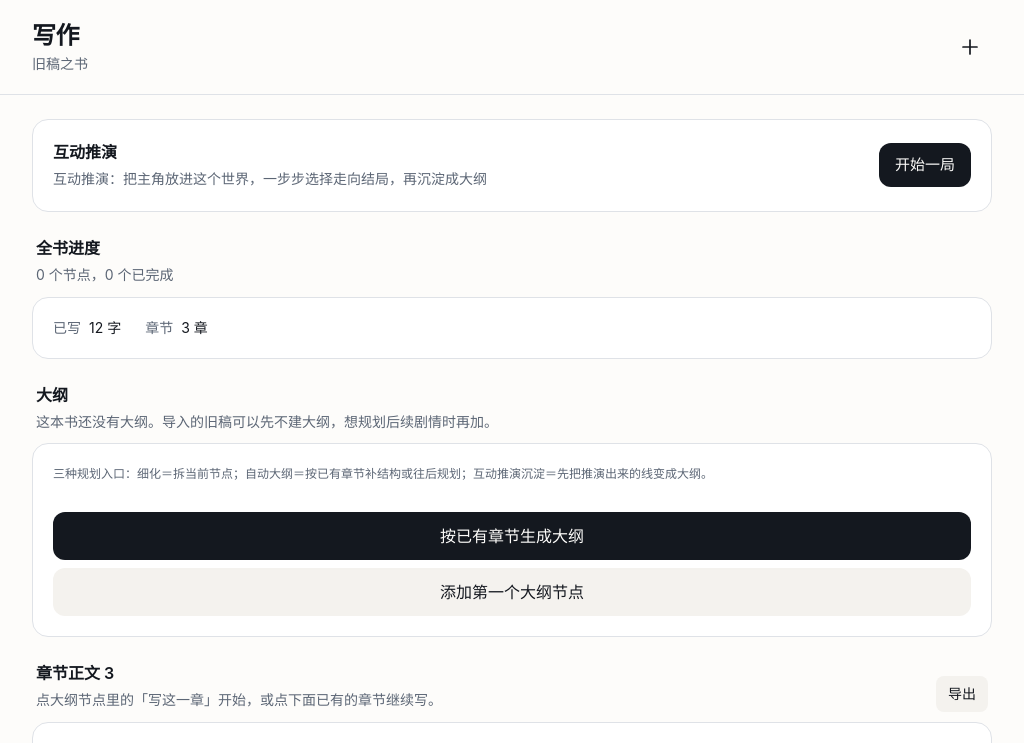
Test: M3-S2 · 预览面板 › 预览数量/标题/摘要（>60 字截断、无摘要提示）
Click the button "按已有章节生成大纲" at [512, 536], box [53,512,971,560]
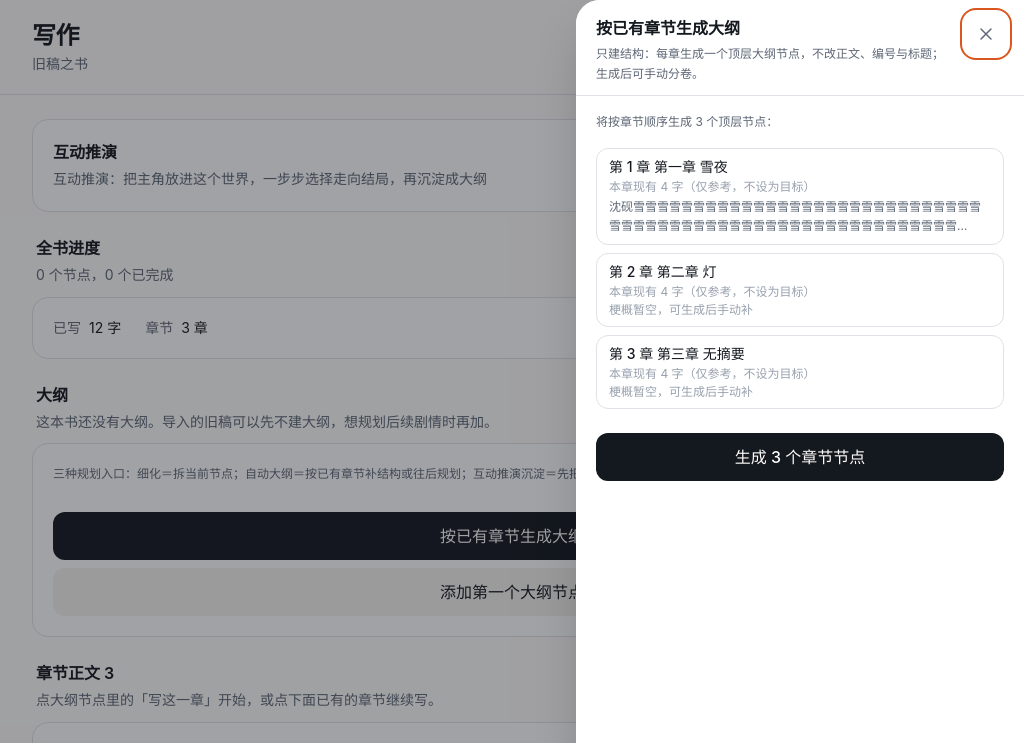
Expected: the text "将按章节顺序生成 3 个顶层节点：" is shown, [596,114,778,129]
Expected: the text "第 1 章 第一章 雪夜" is shown, [609,158,728,174]
Expected: the text "第 2 章 第二章 灯" is shown, [609,262,717,280]
